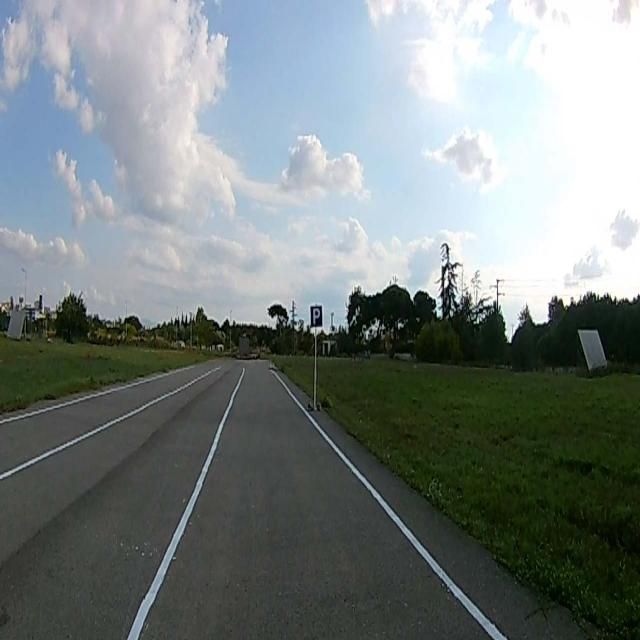park: (310, 305, 322, 327)
